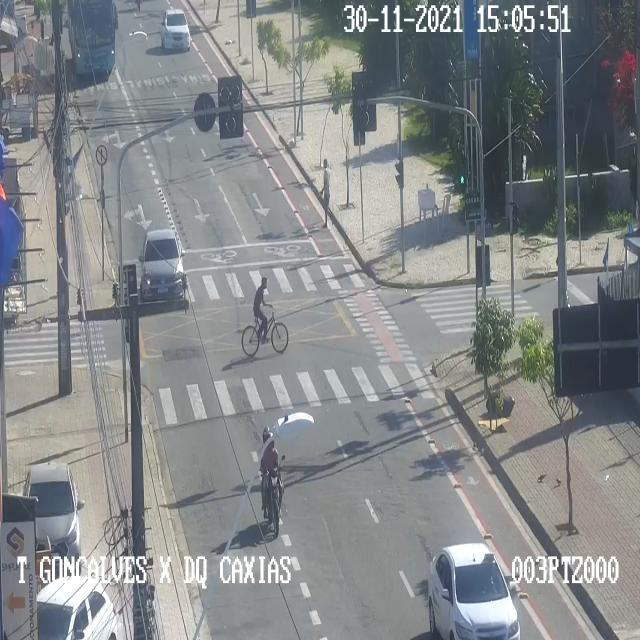Bus: (70, 0, 120, 81)
Car: (428, 542, 520, 639), (24, 462, 80, 572), (36, 575, 116, 639), (141, 229, 183, 297), (160, 9, 190, 50)
Motorcycle: (260, 426, 282, 535)
